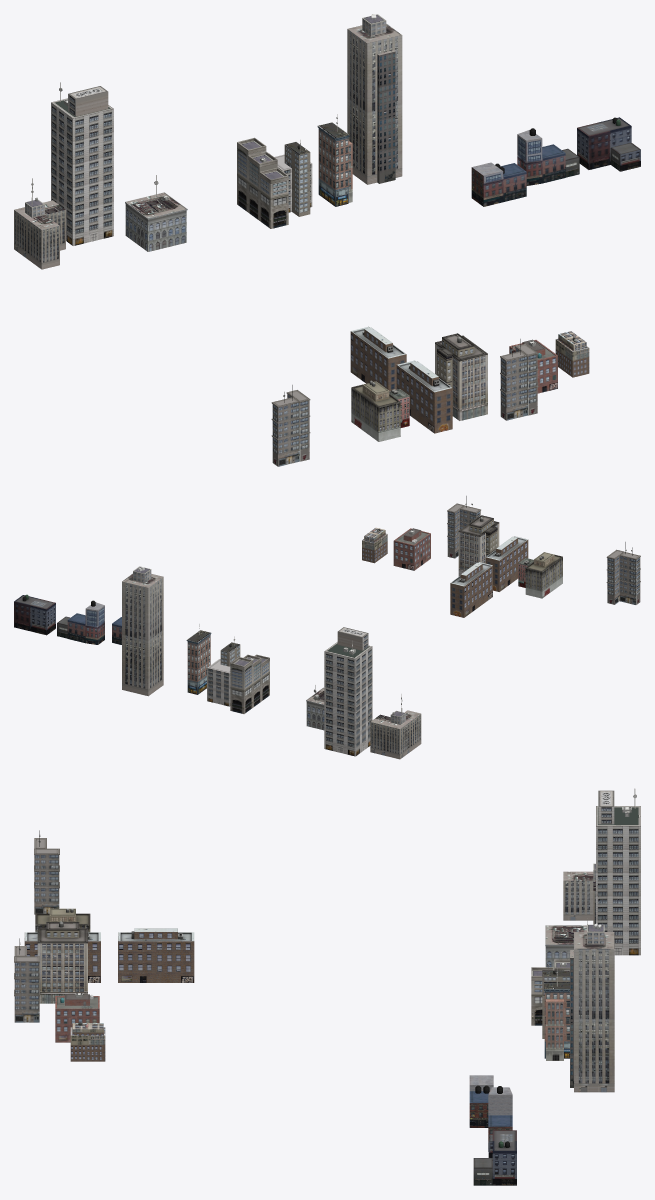
Rendered from building 2a.FBX.
3 renders of one model, top to bottom at view 1: azimuth 30°, elevation 25°; view 2: azimuth 150°, elevation 25°; view 3: azimuth 270°, elevation 25°, orthographic. The views are drawn at different scales.
Visible parts, largest first — view 1: NY_set3_029_NYC_set3_0, NY_set3_086_NYC_set3_0, NY_set3_111_NYC_set3_0, NY_set1_075_NYC_set1_0, NY_set3_091_NYC_set3_0, NY_set3_011_NYC_set3_0, NY_set1_048_NYC_set1_0, NY_set4_048_NYC_set4_0, NY_set3_128_NYC_set3_0, NY_set1_015_NYC_set1_0, NY_set1_069_NYC_set1_001, NY_set1_048_NYC_set1_001 (+6 smaller); view 2: NY_set3_029_NYC_set3_0, NY_set3_086_NYC_set3_0, NY_set3_091_NYC_set3_0, NY_set3_111_NYC_set3_0, NY_set1_048_NYC_set1_001, NY_set1_015_NYC_set1_0, NY_set1_075_NYC_set1_0, NY_set1_048_NYC_set1_0, NY_set4_034_NYC_set4_0, NY_set4_048_NYC_set4_0, NY_set1_035_NYC_set1_0, NY_set3_010_NYC_set3_0 (+5 smaller); view 3: NY_set3_086_NYC_set3_0, NY_set3_029_NYC_set3_0, NY_set1_048_NYC_set1_001, NY_set1_075_NYC_set1_0, NY_set3_128_NYC_set3_0, NY_set4_048_NYC_set4_0, NY_set1_069_NYC_set1_001, NY_set1_015_NYC_set1_0, NY_set3_091_NYC_set3_0, NY_set2_086_NYC_set2_0, NY_set2_080_NYC_set2_0, NY_set4_034_NYC_set4_0 (+5 smaller).
Part boxes in pixels (x1,y1,x2,y2): NY_set3_029_NYC_set3_0: (51, 82, 113, 245); NY_set3_086_NYC_set3_0: (347, 14, 402, 184); NY_set3_111_NYC_set3_0: (237, 137, 288, 228); NY_set1_075_NYC_set1_0: (435, 333, 487, 420); NY_set3_091_NYC_set3_0: (14, 178, 65, 269); NY_set3_011_NYC_set3_0: (125, 175, 187, 251); NY_set1_048_NYC_set1_0: (396, 360, 452, 433); NY_set4_048_NYC_set4_0: (577, 117, 640, 171); NY_set3_128_NYC_set3_0: (317, 114, 352, 206); NY_set1_015_NYC_set1_0: (271, 385, 310, 466); NY_set1_069_NYC_set1_001: (500, 339, 538, 420); NY_set1_048_NYC_set1_001: (350, 326, 406, 391); NY_set3_029_NYC_set3_0: (324, 627, 372, 756); NY_set3_086_NYC_set3_0: (122, 566, 163, 696); NY_set3_091_NYC_set3_0: (370, 694, 421, 759); NY_set3_111_NYC_set3_0: (230, 654, 269, 713); NY_set1_048_NYC_set1_001: (450, 562, 492, 617); NY_set1_015_NYC_set1_0: (606, 542, 640, 604); NY_set1_075_NYC_set1_0: (458, 515, 499, 576); NY_set1_048_NYC_set1_0: (485, 536, 528, 591); NY_set4_034_NYC_set4_0: (57, 600, 104, 644); NY_set4_048_NYC_set4_0: (14, 594, 55, 635); NY_set1_035_NYC_set1_0: (525, 552, 562, 598); NY_set3_010_NYC_set3_0: (207, 636, 240, 706); NY_set3_086_NYC_set3_0: (570, 923, 614, 1092); NY_set3_029_NYC_set3_0: (596, 788, 640, 955); NY_set1_048_NYC_set1_001: (118, 928, 194, 982); NY_set1_075_NYC_set1_0: (37, 921, 87, 1003); NY_set3_128_NYC_set3_0: (544, 968, 569, 1060); NY_set4_048_NYC_set4_0: (473, 1130, 516, 1185); NY_set1_069_NYC_set1_001: (14, 938, 39, 1022); NY_set1_015_NYC_set1_0: (34, 830, 59, 914); NY_set3_091_NYC_set3_0: (563, 863, 595, 924); NY_set2_086_NYC_set2_0: (55, 993, 99, 1042); NY_set2_080_NYC_set2_0: (70, 1022, 105, 1061); NY_set4_034_NYC_set4_0: (488, 1086, 512, 1157).
Bounding box in the file's own units: 7853 × 2038 × 7266.
